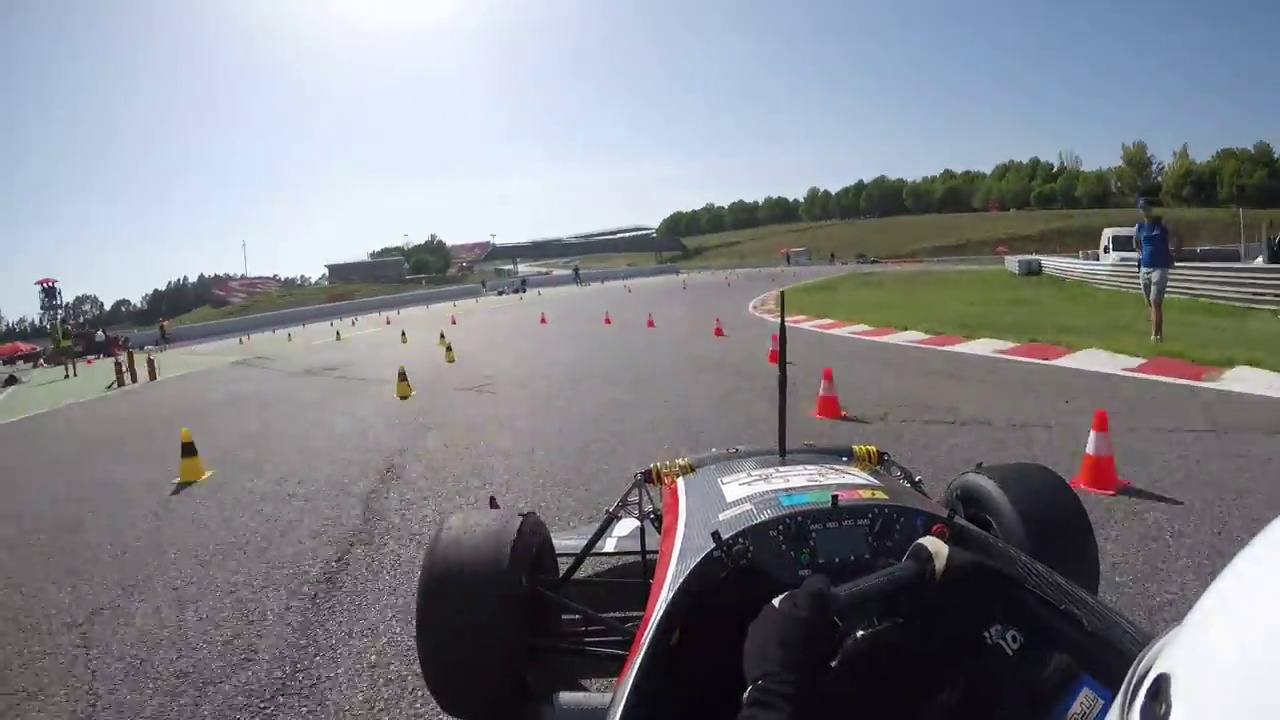Cone: (1071, 407, 1123, 494), (173, 427, 208, 486), (812, 366, 843, 421), (393, 364, 413, 399)
